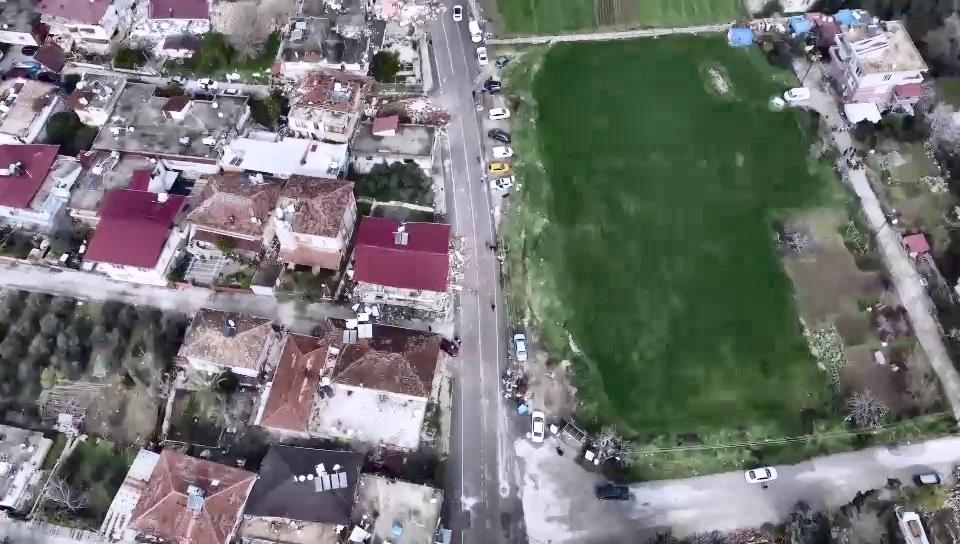kapali: (327, 300, 455, 336), (417, 0, 474, 48)
